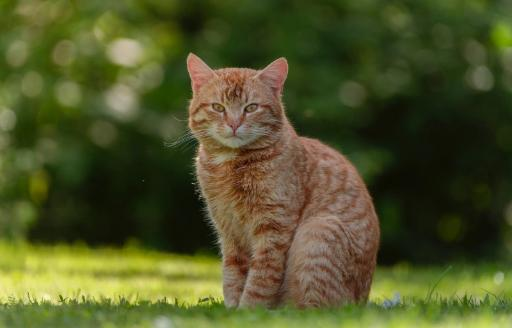cat_sitting: (187, 54, 380, 309)
